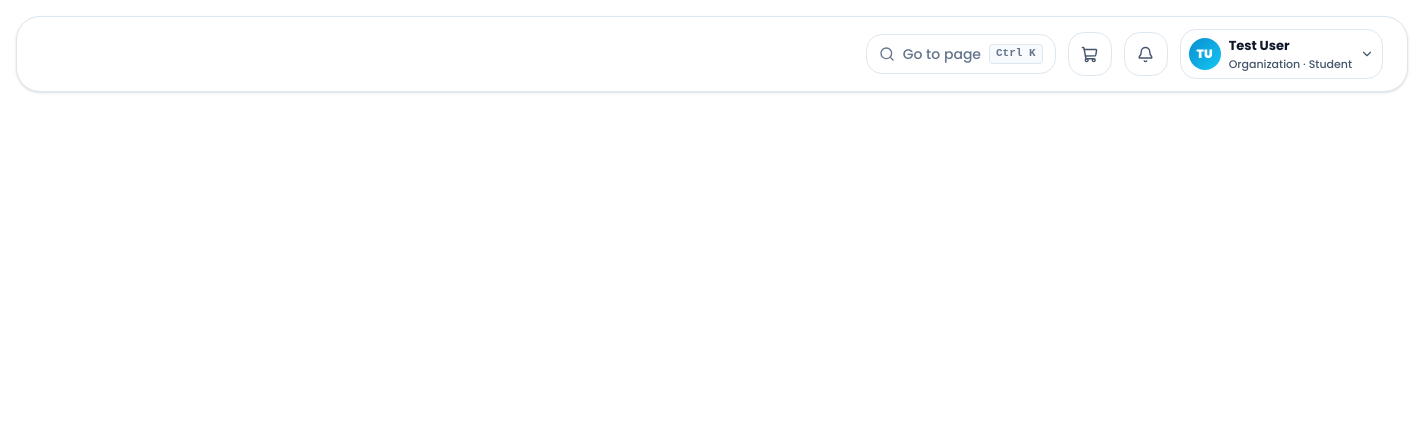
Scenario: TopBar notifications › shows the current profile and makes the switch menu usable on mobile
Click the button with aria-label "Account menu for Test User": (1281,54) [1180,29,1383,79]
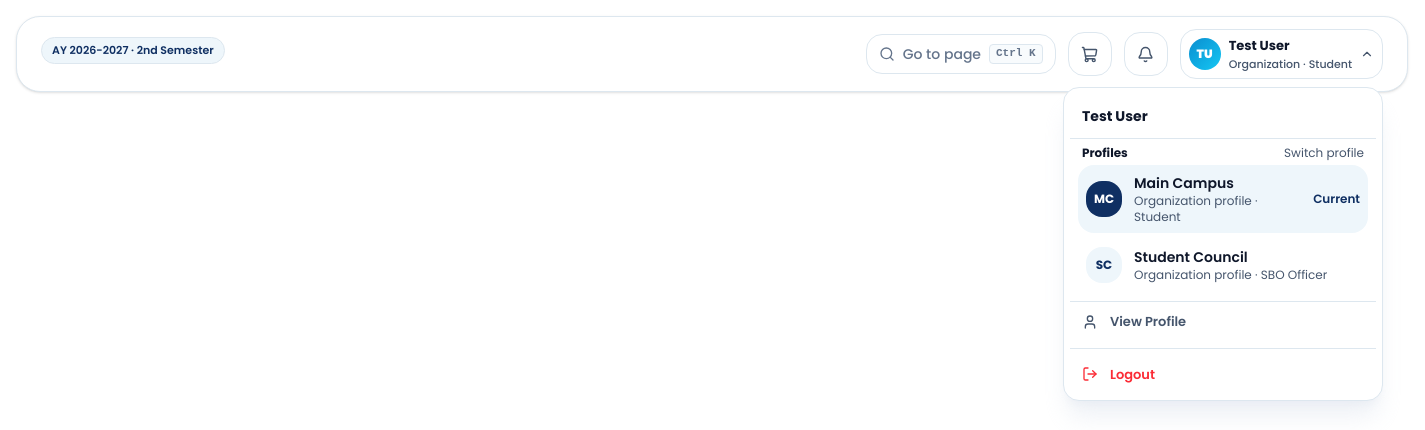
Expected: the button with aria-label "Account menu for Test User" is expanded, [1180,29,1383,79]
Expected: the button "SC Student Council Organization profile · SBO Officer" is enabled, [1078,237,1368,293]
Expected: the button "MC Main Campus Organization profile · Student Current" is disabled, [1078,165,1368,233]
Press Escape
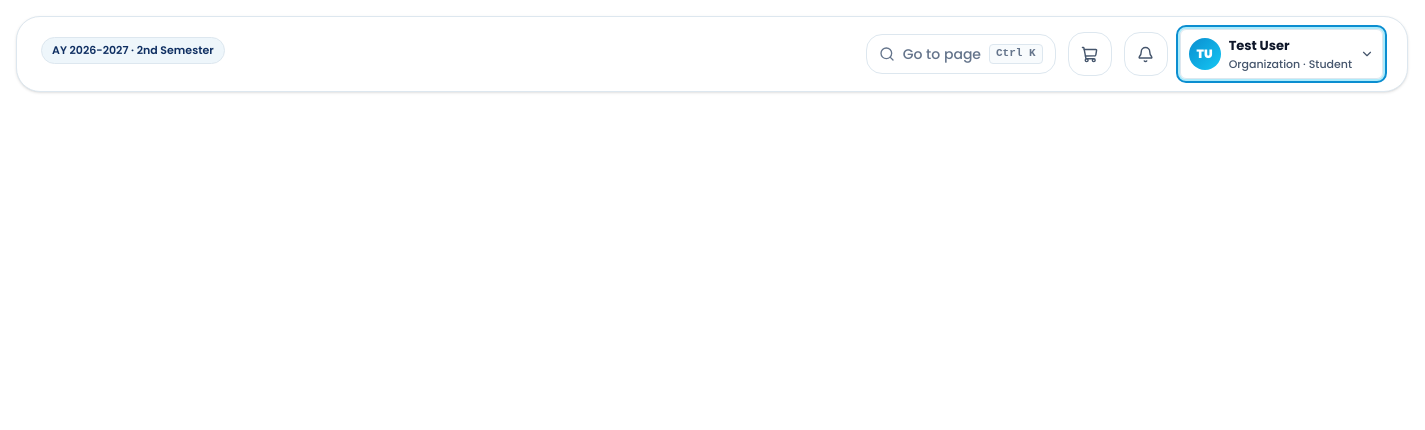
Expected: the button with aria-label "Account menu for Test User" is collapsed, [1180,29,1383,79]
